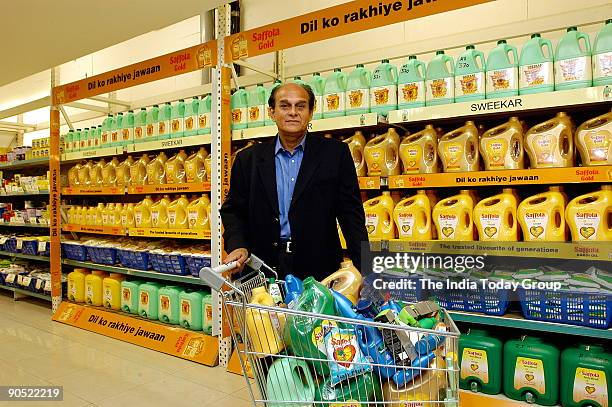saffola: (0, 138, 49, 299)
